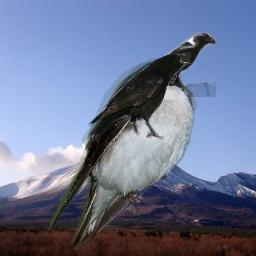Crow: (87, 51, 193, 141), (137, 30, 216, 97)
Swallow: (50, 54, 198, 250)
